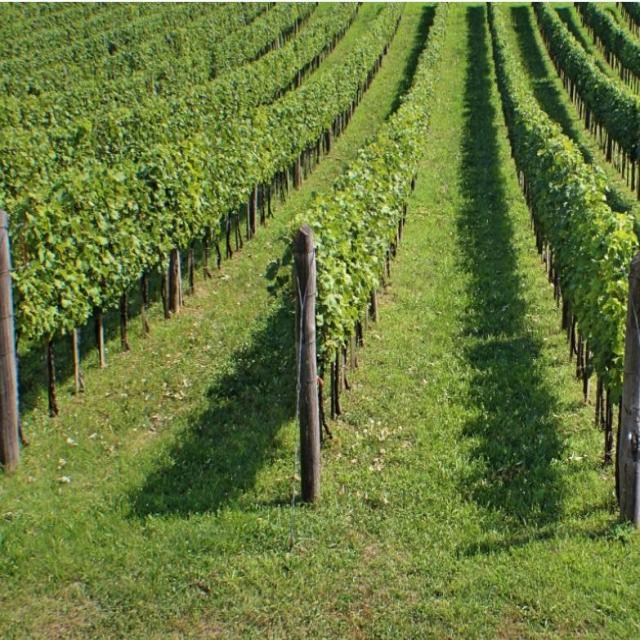row: (15, 3, 433, 491), (325, 2, 627, 522)
